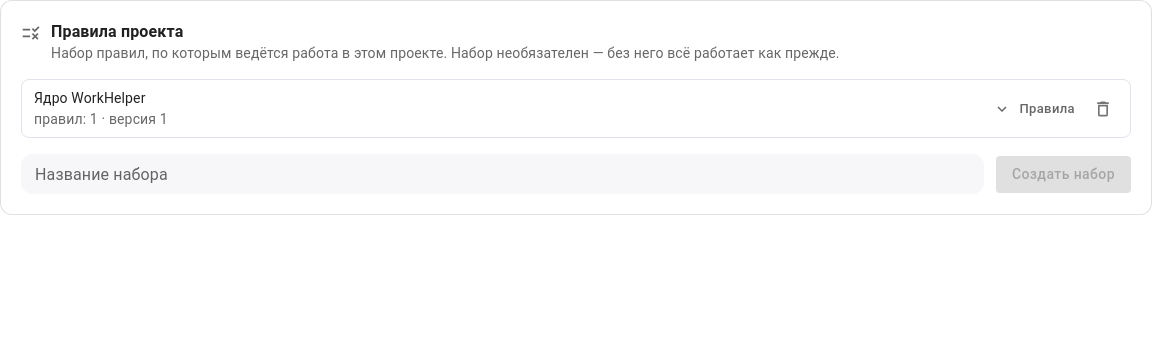
Test: наборы правил (T-511) › правила набора показываются после раскрытия
Step 1. Click the button "Правила" → (1035, 109), box 990,94 -> 1080,124
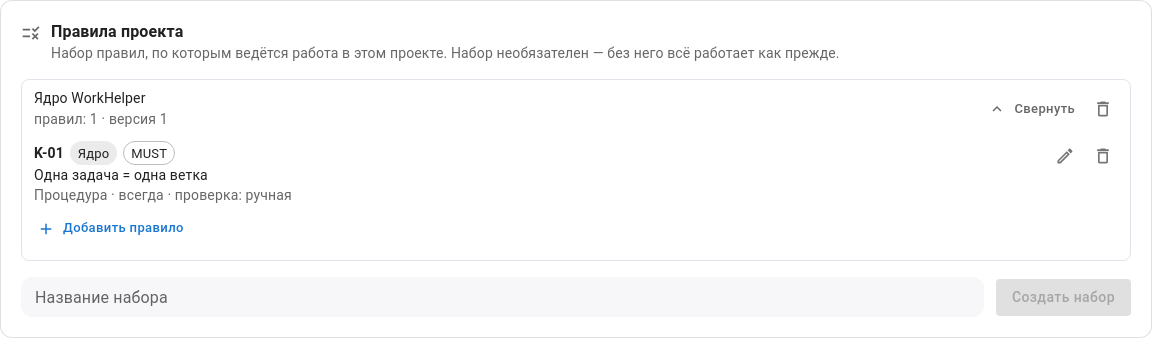
Expected: the text "Одна задача = одна ветка" is shown, 34,167 -> 208,183
Expected: the text "Процедура · всегда · проверка: ручная" is shown, 34,187 -> 292,203
